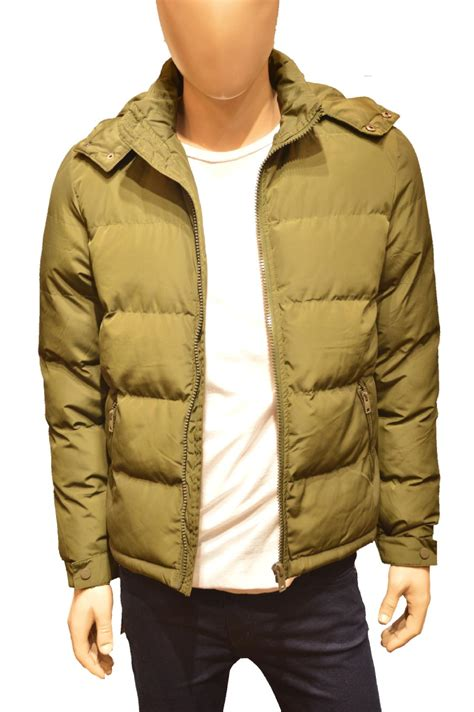nylon: (39, 51, 440, 588)
